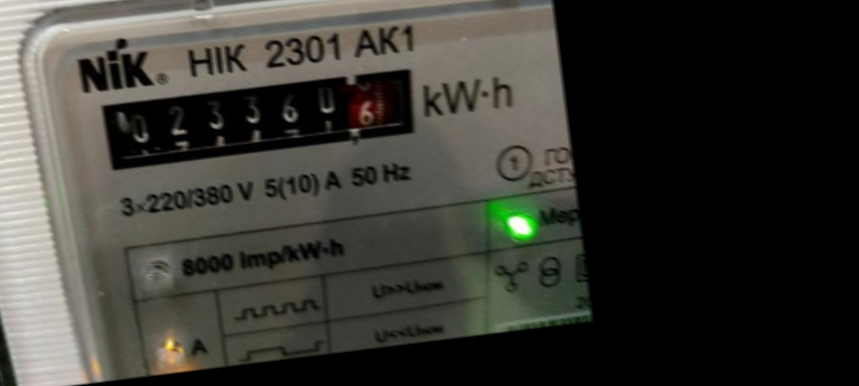0: (126, 108, 151, 143), (315, 81, 335, 114)
2: (163, 100, 190, 136)
3: (201, 95, 226, 130), (239, 90, 262, 123)
6: (275, 88, 299, 123), (352, 94, 376, 125)
screen: (81, 47, 432, 186)
